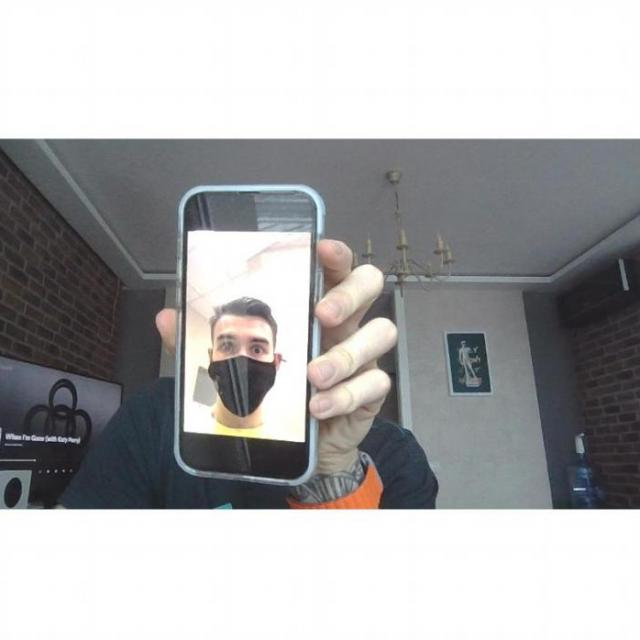device: (170, 179, 334, 491)
